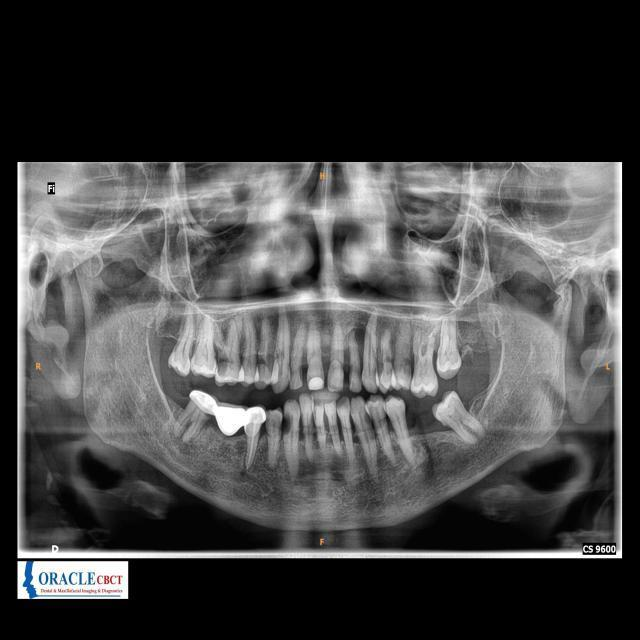dentin-curugu: (282, 411, 296, 437), (216, 348, 229, 374), (399, 353, 412, 376), (258, 351, 270, 371), (362, 411, 371, 434), (383, 350, 393, 366), (379, 408, 386, 429)
dolgu: (303, 375, 326, 391)
kaplama: (189, 389, 216, 418), (245, 401, 262, 435)
kopru: (212, 398, 241, 444)
